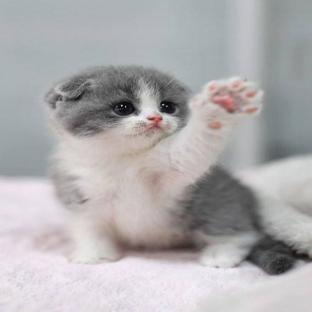Animal: (43, 65, 311, 274)
